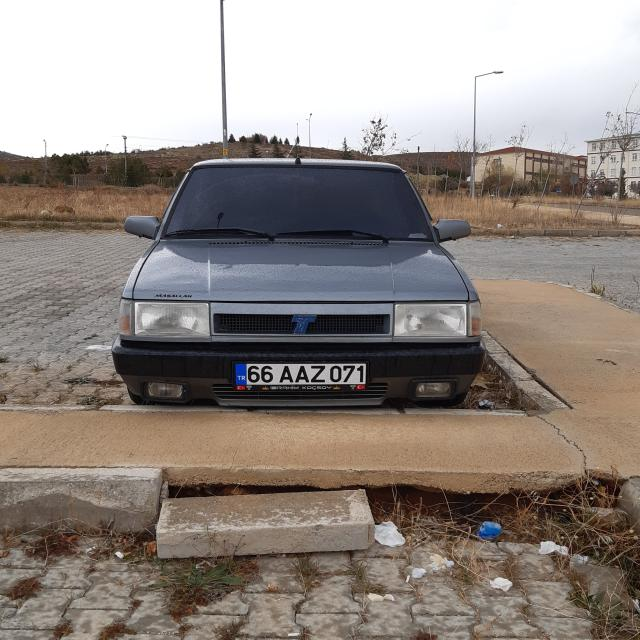license_plate: (234, 362, 368, 388)
